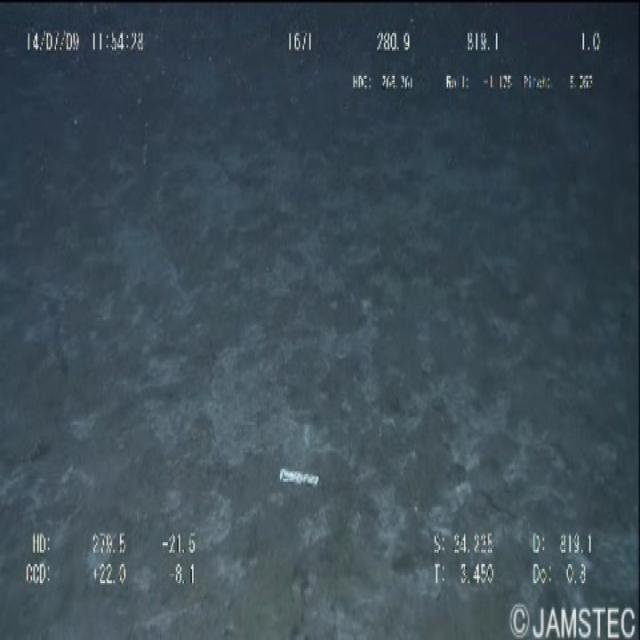Litter: (274, 446, 332, 497)
